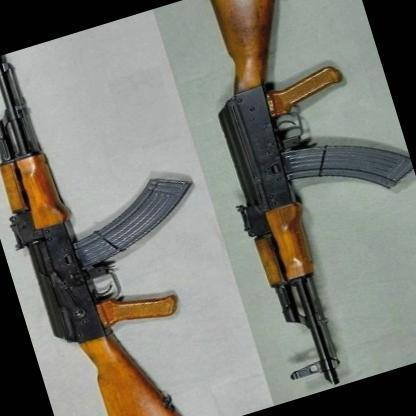rifle: (0, 19, 262, 416), (161, 0, 416, 395)
